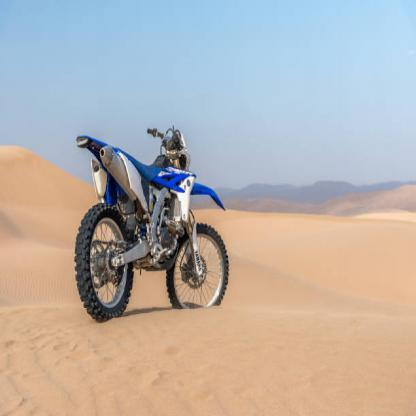Motorcycle: (69, 108, 234, 323)
